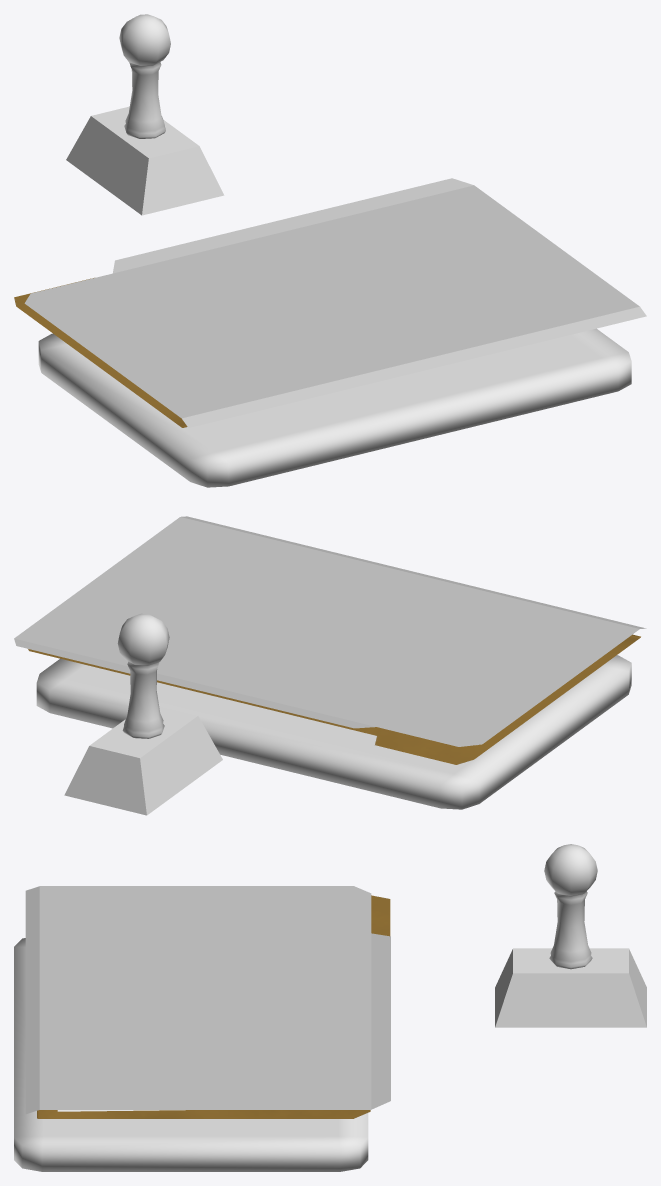
Rendered from folder.fbx.
3 renders of one model, top to bottom at view 1: azimuth 30°, elevation 25°; view 2: azimuth 150°, elevation 25°; view 3: azimuth 270°, elevation 25°, orthographic.
Parts seen in each view (by area): view 1: folder top, tablet, stamp, folder; view 2: folder top, tablet, stamp, folder; view 3: folder top, tablet, stamp, folder.
Boxes of the visible parts, <box> form: folder top: <box>24,178,646,427</box>; tablet: <box>38,328,631,487</box>; stamp: <box>66,14,224,215</box>; folder: <box>14,277,187,427</box>; folder top: <box>14,516,646,746</box>; tablet: <box>36,655,631,809</box>; stamp: <box>64,613,222,815</box>; folder: <box>28,634,640,764</box>; folder top: <box>25,886,390,1114</box>; tablet: <box>14,938,368,1171</box>; stamp: <box>495,844,646,1027</box>; folder: <box>37,895,390,1118</box>.
Bounding box in the file's own units: 41.82 × 19.5 × 50.
